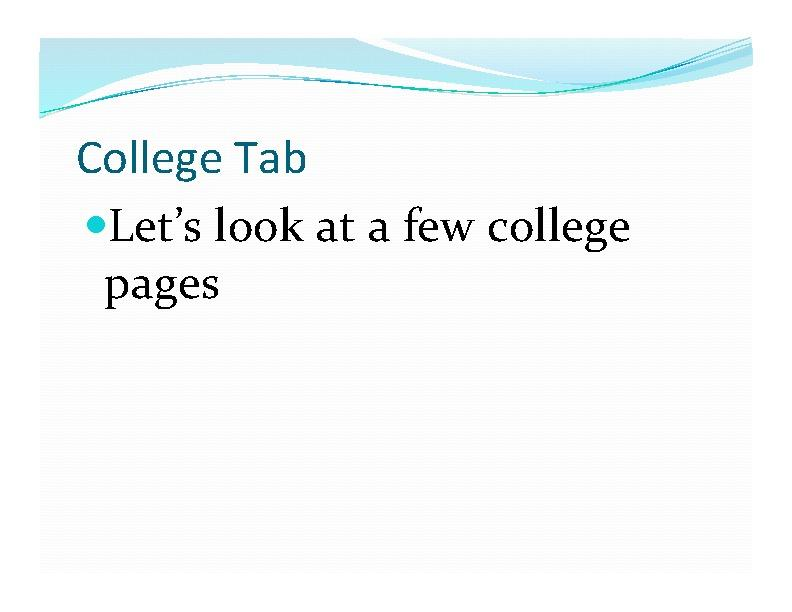title: (69, 122, 696, 331)
